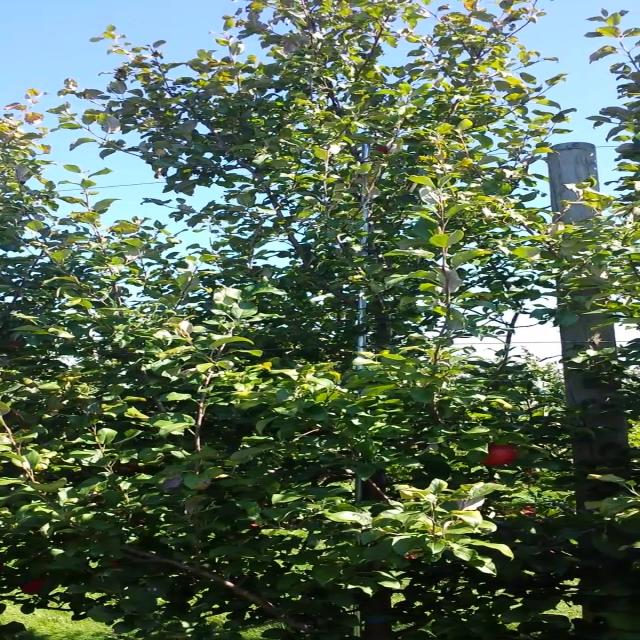apple: (482, 444, 516, 466), (21, 577, 47, 594), (375, 145, 389, 155)
